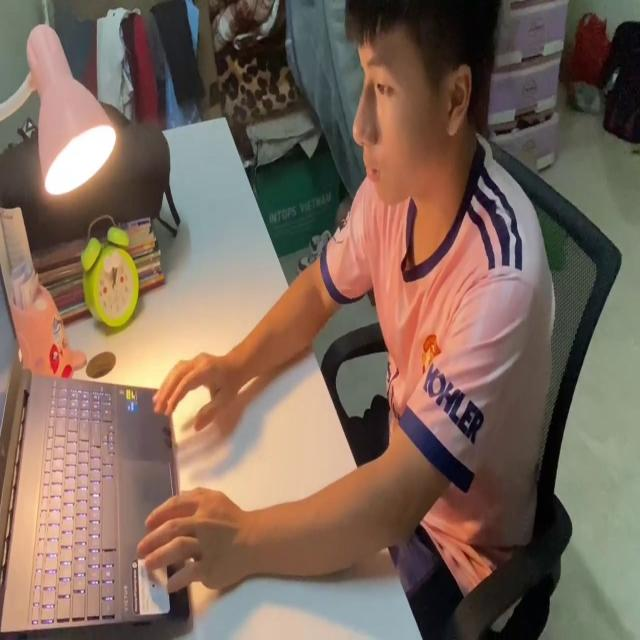laptop: (0, 254, 191, 625)
student: (140, 0, 557, 603)
